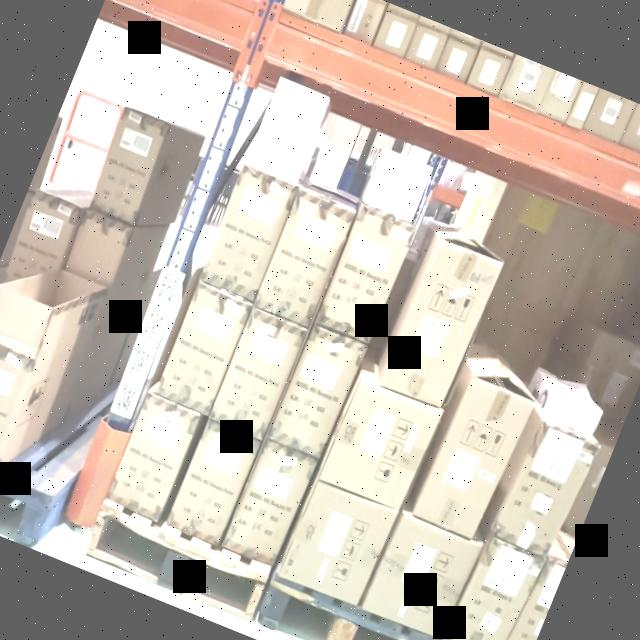box: (413, 374, 535, 539), (384, 241, 497, 408), (322, 380, 438, 508), (278, 480, 396, 605), (493, 418, 599, 557), (315, 204, 415, 342), (255, 190, 355, 325), (366, 516, 476, 638), (268, 326, 366, 460), (200, 165, 298, 298), (104, 391, 201, 522), (210, 308, 306, 438), (156, 284, 251, 412), (167, 422, 259, 544), (222, 444, 312, 566), (445, 541, 542, 640), (88, 108, 172, 222), (508, 558, 567, 640), (0, 344, 33, 455), (269, 78, 329, 126), (246, 134, 306, 181), (373, 148, 432, 194), (363, 176, 422, 220), (258, 110, 314, 150)
